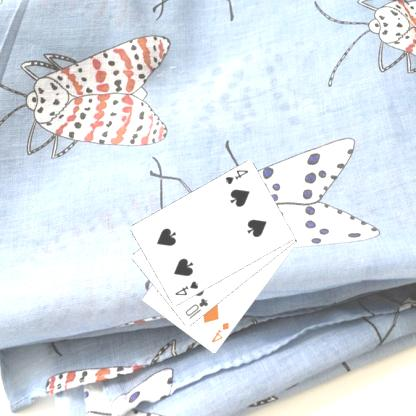10C: (182, 296, 210, 320)
4D: (208, 320, 231, 344)
4S: (172, 278, 200, 297), (222, 168, 250, 186)
